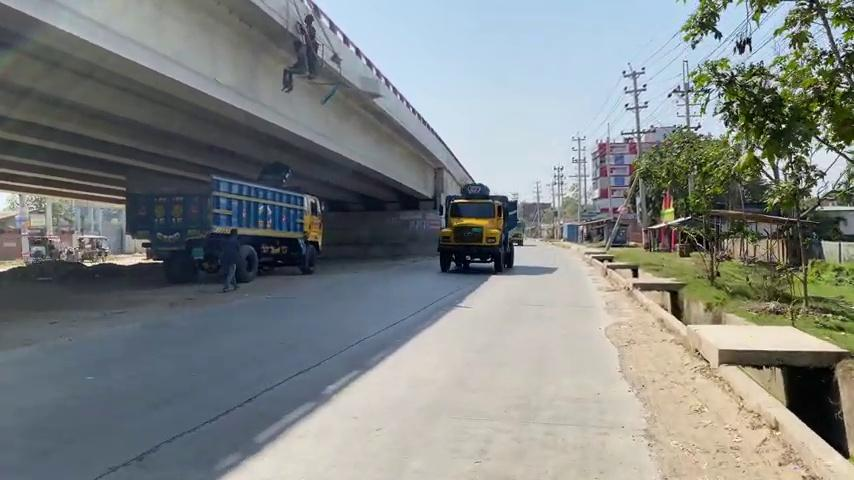Car: (583, 246, 852, 478)
Fallen-tree: (0, 0, 477, 211)
Fence: (280, 39, 308, 93), (218, 228, 241, 292)
Rickshaw: (125, 170, 324, 284), (436, 182, 518, 273), (511, 220, 524, 246)
